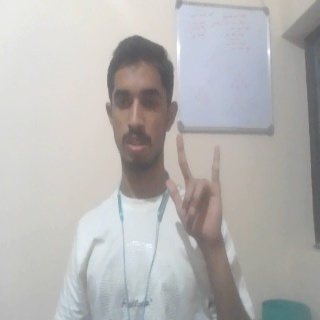Face: (105, 35, 178, 171)
I Love You: (165, 131, 227, 244)
